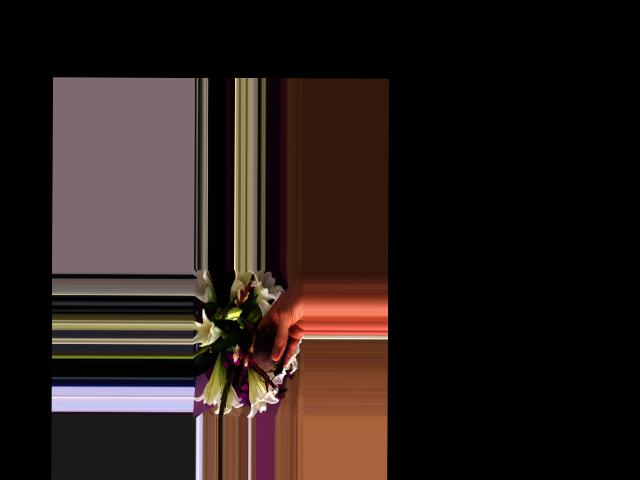beet: (230, 316, 284, 383)
